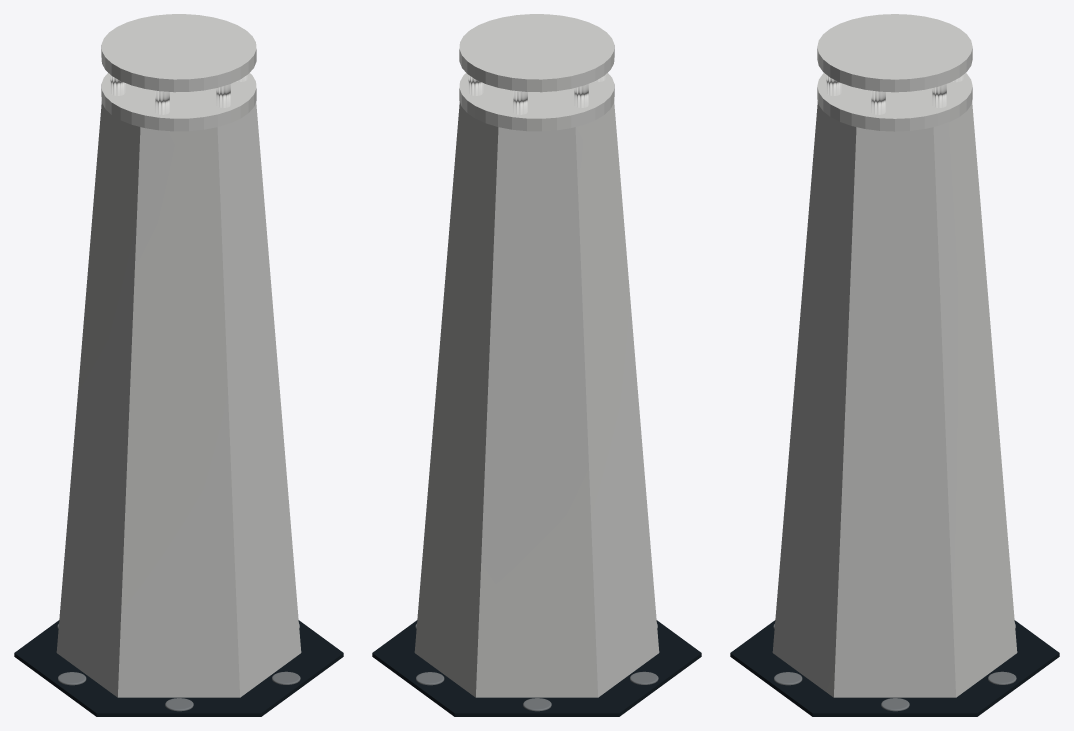
The model's file is telescope_1_base.fbx.
3 views of the same model, side by side, from view 1: azimuth 30°, elevation 25°; view 2: azimuth 150°, elevation 25°; view 3: azimuth 270°, elevation 25° (orthographic).
Visible parts, largest first — view 1: 1_base; view 2: 1_base; view 3: 1_base.
Boxes of the visible parts, x1,y1,x2,y2 form: 1_base: (14, 14, 343, 716); 1_base: (372, 14, 701, 716); 1_base: (730, 14, 1059, 716).
Size of the model in its own units: 74.72 by 176 by 86.27.
